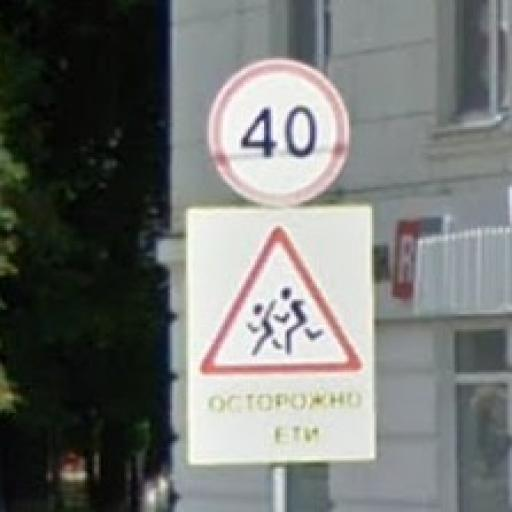traffic_sign: (199, 225, 362, 377), (208, 57, 355, 210)
